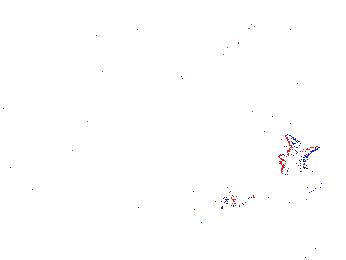flame jellyfish: (172, 155, 256, 226), (59, 156, 144, 211), (276, 132, 335, 208)
